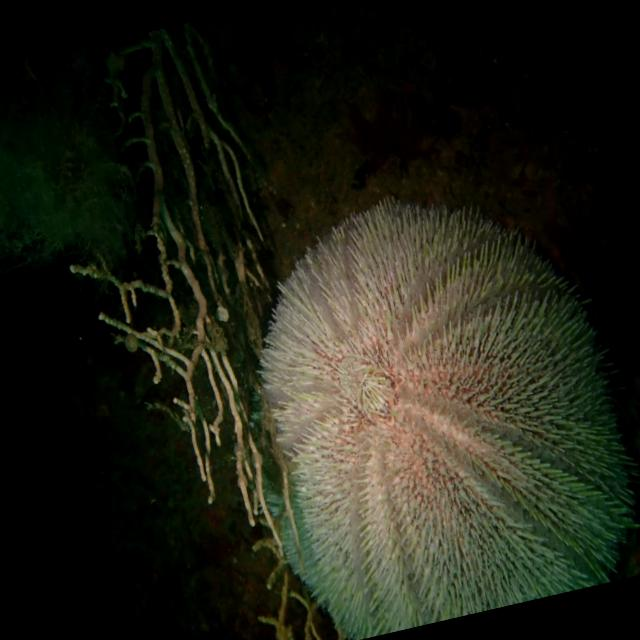Deniz Kestanesi: (195, 158, 640, 640)
